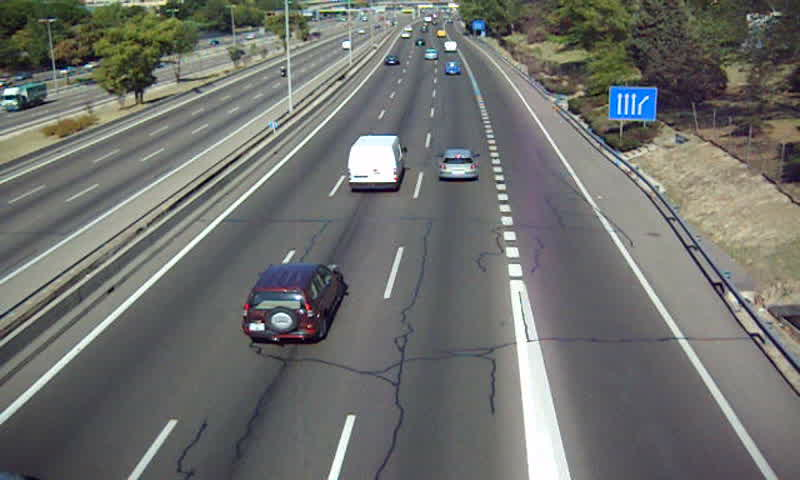car: (242, 264, 344, 343), (439, 150, 477, 180), (444, 60, 461, 75), (422, 47, 441, 60), (384, 54, 400, 66)
van: (347, 136, 404, 191)
